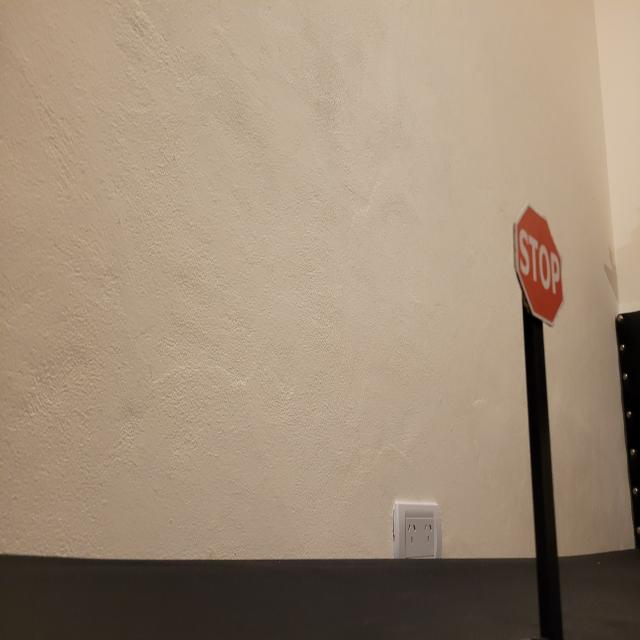stop: (512, 203, 566, 328)
